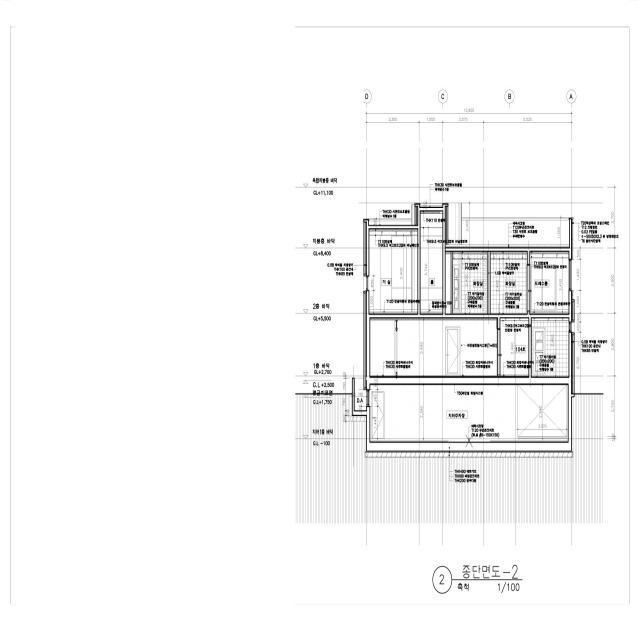space_bedroom: (500, 318, 528, 376)
space_dressroom: (530, 252, 569, 314)
space_elevator_hall: (421, 211, 442, 314)
space_living_room: (397, 318, 497, 376), (369, 229, 417, 313)
space_other: (370, 385, 568, 442), (370, 320, 396, 376), (446, 252, 451, 314)
space_toilet: (491, 252, 527, 314), (532, 318, 569, 377), (453, 252, 487, 314)
